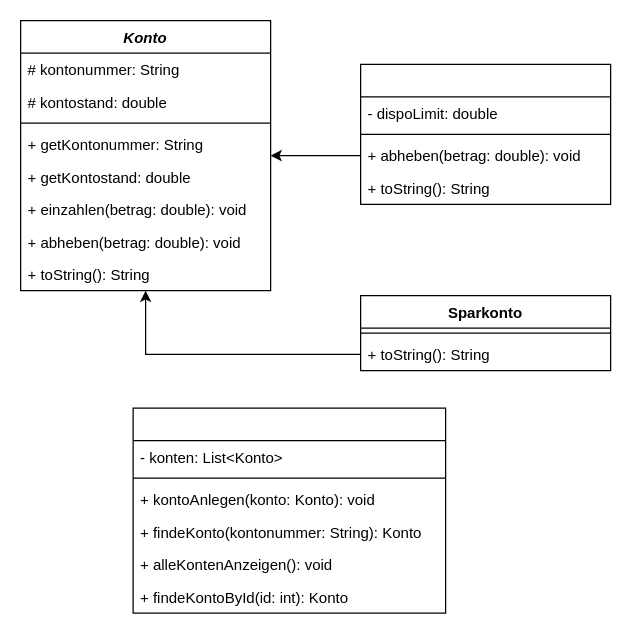
This 631x634 diagram has some shape labels left out. The box of each missing label's shape, as (x1, y1, x2, y2) in pixels:
Bank: (132, 407, 446, 613)
Girokonto: (359, 63, 611, 204)
